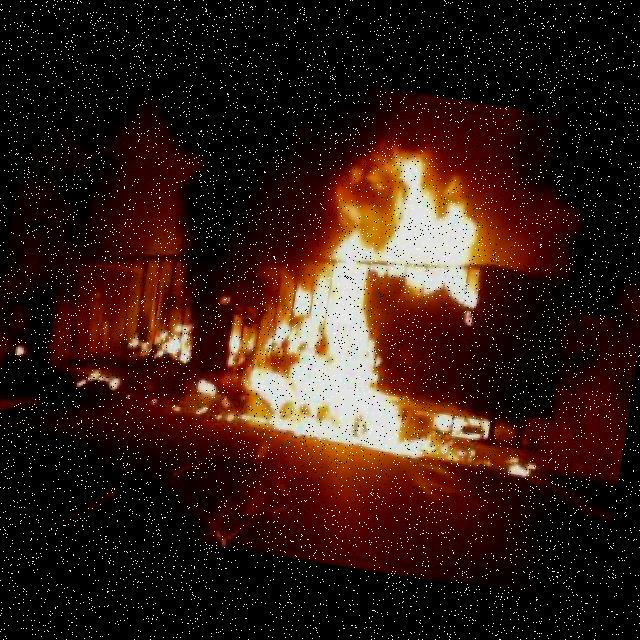Fire: (192, 117, 508, 456), (130, 317, 196, 366), (77, 365, 124, 396), (505, 457, 539, 478)
